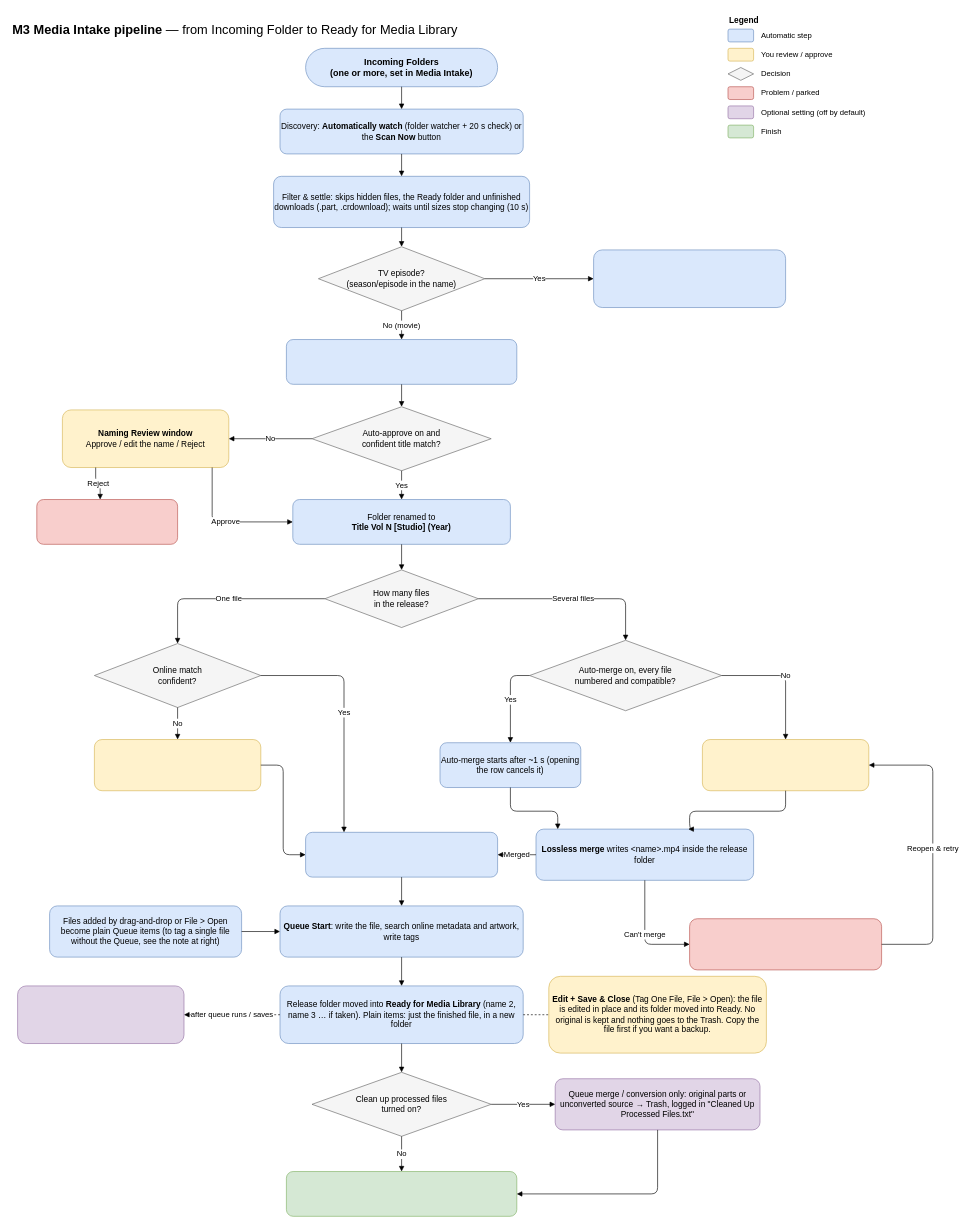
This 970x1228 diagram has some shape labels left out. Here are the shapes that lost their labels. From the top down, the box of each, then its label:
(593, 249, 786, 308): TV Shows Queue (separate window) follows the same steps below
(286, 339, 517, 384): Row added to Movies Queue as a release (a loose file gets a folder of its own)
(36, 499, 178, 544): Rejected: row stays parked in the Queue
(94, 739, 261, 791): Metadata Review sheet confirm match, choose Portrait / Landscape art
(702, 739, 869, 791): Merge Review sheet pick files, drag into order, compatibility check
(305, 832, 498, 877): Item ready: metadata search and "move to Ready" actions attached
(689, 918, 882, 970): Merge failed: plain-language reason shown on the row
(17, 985, 184, 1044): Remove empty folders automatically to the Trash, logged (Intake + Ready folders)
(286, 1171, 517, 1216): Ready for Media Library final human check before your media server
